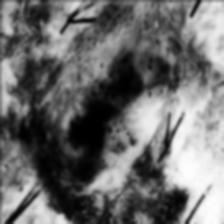Potentially Malignant Skin Tumors: (62, 52, 152, 168)
